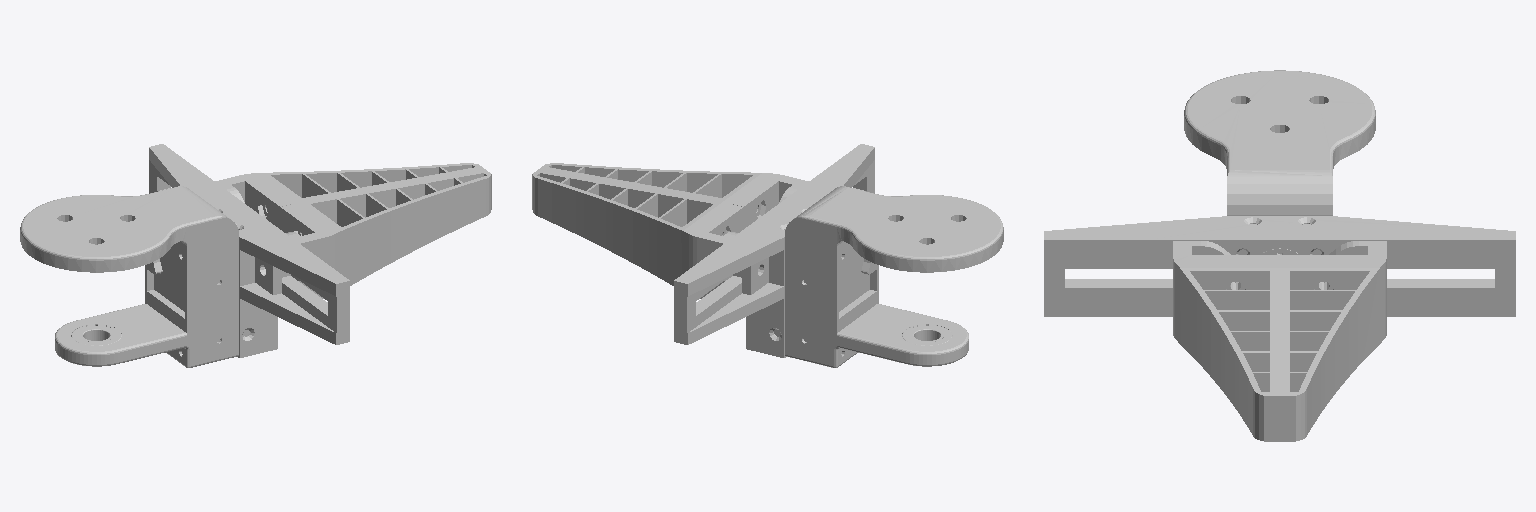
robot.urdf — RobotBimanualV3:
<?xml version="1.0" encoding="utf-8"?>
<!-- This URDF was automatically created by SolidWorks to URDF Exporter! Originally created by [author] ([email redacted]) 
     Commit Version: 1.6.0-4-g7f85cfe  Build Version: 1.6.7995.38578
     For more information, please see http://wiki.ros.org/sw_urdf_exporter -->
<robot
  name="RobotBimanualV3">
  <link
    name="base_link">
    <inertial>
      <origin
        xyz="0.010321 0.00065104 0.5185"
        rpy="0 0 0" />
      <mass
        value="35.545" />
      <inertia
        ixx="1.3259"
        ixy="-1.6443E-06"
        ixz="-0.00012106"
        iyy="1.3119"
        iyz="-1.547E-06"
        izz="0.026428" />
    </inertial>
    <visual>
      <origin
        xyz="0 0 0"
        rpy="0 0 0" />
      <geometry>
        <mesh
          filename="package://RobotBimanualV3/meshes/base_link.obj" />
      </geometry>
      <material
        name="">
        <color
          rgba="0.79216 0.81961 0.93333 1" />
      </material>
    </visual>
    <collision>
      <origin
        xyz="0 0 0"
        rpy="0 0 0" />
      <geometry>
        <mesh
          filename="package://RobotBimanualV3/meshes/base_link_simplified_decomposed.obj" />
      </geometry>
    </collision>
  </link>
  <link
    name="link1">
    <inertial>
      <origin
        xyz="0.00277367 6.161E-05 0.05165334"
        rpy="0 0 0" />
      <mass
        value="0.706" />
      <inertia
        ixx="0.00074611"
        ixy="5.4E-07"
        ixz="5.3E-07"
        iyy="0.00054009"
        iyz="3.26E-06"
        izz="0.00050643" />
    </inertial>
    <visual>
      <origin
        xyz="0 0 0"
        rpy="0 0 0" />
      <geometry>
        <mesh
          filename="package://RobotBimanualV3/meshes/link1.obj" />
      </geometry>
      <material
        name="">
        <color
          rgba="1 1 1 1" />
      </material>
    </visual>
    <collision>
      <origin
        xyz="0 0 0"
        rpy="0 0 0" />
      <geometry>
        <mesh
          filename="package://RobotBimanualV3/meshes/Simplified_link1_decomposed.obj" />
      </geometry>
    </collision>
  </link>
  <joint
    name="joint1"
    type="revolute">
    <origin
      xyz="0.02 0.1037 0.8358"
      rpy="0 0 0" />
    <parent
      link="base_link" />
    <child
      link="link1" />
    <axis
      xyz="0 0 1" />
    <limit
      lower="-1.57079633"
      upper="0.87266463"
      effort="4"
      velocity="2.17" />
  </joint>
  <link
    name="link2">
    <inertial>
      <origin
        xyz="-0.00124394 -5.732E-05 0.0545228"
        rpy="0 0 0" />
      <mass
        value="0.659" />
      <inertia
        ixx="0.00064807"
        ixy="8.3E-07"
        ixz="-4.6E-07"
        iyy="0.00045162"
        iyz="-1.01E-06"
        izz="0.00043422" />
    </inertial>
    <visual>
      <origin
        xyz="0 0 0"
        rpy="0 0 0" />
      <geometry>
        <mesh
          filename="package://RobotBimanualV3/meshes/link2.obj" />
      </geometry>
      <material
        name="">
        <color
          rgba="1 1 1 1" />
      </material>
    </visual>
    <collision>
      <origin
        xyz="0 0 0"
        rpy="0 0 0" />
      <geometry>
        <mesh
          filename="package://RobotBimanualV3/meshes/Simplified_link2_decomposed.obj" />
      </geometry>
    </collision>
  </link>
  <joint
    name="joint2"
    type="revolute">
    <origin
      xyz="-0.020519 0.0080718 0.0528"
      rpy="-1.5708 0 1.5708" />
    <parent
      link="link1" />
    <child
      link="link2" />
    <axis
      xyz="0 0 1" />
    <limit
      lower="-0.87266463"
      upper="0.87266463"
      effort="4"
      velocity="2.17" />
  </joint>
  <link
    name="link3">
    <inertial>
      <origin
        xyz="-0.03505493 -0.006151 0.05438578"
        rpy="0 0 0" />
      <mass
        value="1.095" />
      <inertia
        ixx="0.00161847"
        ixy="0.00042205"
        ixz="-0.00104433"
        iyy="0.0066165"
        iyz="-0.0001917"
        izz="0.00653551" />
    </inertial>
    <visual>
      <origin
        xyz="0 0 0"
        rpy="0 0 0" />
      <geometry>
        <mesh
          filename="package://RobotBimanualV3/meshes/link3.obj" />
      </geometry>
      <material
        name="">
        <color
          rgba="0.79216 0.81961 0.93333 1" />
      </material>
    </visual>
    <collision>
      <origin
        xyz="0 0 0"
        rpy="0 0 0" />
      <geometry>
        <mesh
          filename="package://RobotBimanualV3/meshes/Simplified_link3_decomposed.obj" />
      </geometry>
    </collision>
  </link>
  <joint
    name="joint3"
    type="revolute">
    <origin
      xyz="0.014928 0 0.058031"
      rpy="-1.5708 0 -1.5708" />
    <parent
      link="link2" />
    <child
      link="link3" />
    <axis
      xyz="0 0 1" />
    <limit
      lower="-3.14159265"
      upper="0.87266463"
      effort="4"
      velocity="2.17" />
  </joint>
  <link
    name="link4">
    <inertial>
      <origin
        xyz="-0.00914828 -0.00042727 -7.12E-06"
        rpy="0 0 0" />
      <mass
        value="0.268" />
      <inertia
        ixx="9.136E-05"
        ixy="7E-08"
        ixz="-2E-08"
        iyy="0.00013894"
        iyz="0"
        izz="0.00013031" />
    </inertial>
    <visual>
      <origin
        xyz="0 0 0"
        rpy="0 0 0" />
      <geometry>
        <mesh
          filename="package://RobotBimanualV3/meshes/link4.obj" />
      </geometry>
      <material
        name="">
        <color
          rgba="0.79216 0.81961 0.93333 1" />
      </material>
    </visual>
    <collision>
      <origin
        xyz="0 0 0"
        rpy="0 0 0" />
      <geometry>
        <mesh
          filename="package://RobotBimanualV3/meshes/Simplified_link4_decomposed.obj" />
      </geometry>
    </collision>
  </link>
  <joint
    name="joint4"
    type="revolute">
    <origin
      xyz="-0.25 0 0.08318"
      rpy="0 0 1.5708" />
    <parent
      link="link3" />
    <child
      link="link4" />
    <axis
      xyz="0 0 1" />
    <limit
      lower="-0.78539816"
      upper="1.30899694"
      effort="4"
      velocity="2.17" />
  </joint>
  <link
    name="link5">
    <inertial>
      <origin
        xyz="-0.00143459 -5.019E-05 0.22261684"
        rpy="0 0 0" />
      <mass
        value="0.285" />
      <inertia
        ixx="0.00170458"
        ixy="1.5E-07"
        ixz="-2.111E-05"
        iyy="0.00168732"
        iyz="-5.6E-07"
        izz="7.029E-05" />
    </inertial>
    <visual>
      <origin
        xyz="0 0 0"
        rpy="0 0 0" />
      <geometry>
        <mesh
          filename="package://RobotBimanualV3/meshes/link5.obj" scale="0.9 0.9 1" />
      </geometry>
      <material
        name="">
        <color
          rgba="0.79216 0.81961 0.93333 1" />
      </material>
    </visual>
    <collision>
      <origin
        xyz="0 0 0"
        rpy="0 0 0" />
      <geometry>
        <mesh
          filename="package://RobotBimanualV3/meshes/Simplified_link5_decomposed.obj" scale="0.9 0.9 1"  />
      </geometry>
    </collision>
  </link>
  <joint
    name="joint5"
    type="revolute">
    <origin
      xyz="0.014 0 0"
      rpy="-1.5708 0 -1.5708" />
    <parent
      link="link4" />
    <child
      link="link5" />
    <axis
      xyz="0 0 1" />
    <limit
      lower="-3.66519143"
      upper="3.66519143"
      effort="1"
      velocity="2.17" />
  </joint>
  <link
    name="link6">
    <inertial>
      <origin
        xyz="0 0.05222536 -0.0188198"
        rpy="0 0 0" />
      <mass
        value="0.201" />
      <inertia
        ixx="0.00024939"
        ixy="0"
        ixz="0"
        iyy="0.0002157"
        iyz="-6.26E-06"
        izz="0.00036328" />
    </inertial>
    <visual>
      <origin
        xyz="0 0 0"
        rpy="0 0 0" />
      <geometry>
        <mesh
          filename="package://RobotBimanualV3/meshes/gripped_state_gripper.obj" />
      </geometry>
      <material
        name="">
        <color
          rgba="0.82353 0.82353 0.82353 1" />
      </material>
    </visual>
    <collision>
      <origin
        xyz="0 0 0"
        rpy="0 0 0" />
      <geometry>
        <mesh
          filename="package://RobotBimanualV3/meshes/Simplified_link6_gripped_state_decomposed.obj" />
      </geometry>
    </collision>
  </link>
  <joint
    name="joint6"
    type="revolute">
    <origin
      xyz="0.01415 0 0.2633"
      rpy="1.5708 0 1.5708" />
    <parent
      link="link5" />
    <child
      link="link6" />
    <axis
      xyz="0 0 1" />
    <limit
      lower="-2.0944"
      upper="2.0944"
      effort="1"
      velocity="2.17" />
  </joint>
  <link name="tool1">
    <inertial>
      <origin
        xyz="0 0 0"
        rpy="0 0 0" />
      <mass
        value="0" />
      <inertia
        ixx="0"
        ixy="0"
        ixz="0"
        iyy="0"
        iyz="0"
        izz="0" />
    </inertial>
  </link>
  <joint name="tool1_frame" type="fixed">
    <origin xyz="0.0 0.15764 -0.01415" rpy="0 0 0" />
    <parent link="link6" />
    <child link="tool1" />
  </joint>
</robot>

--- What the picture shows (computed from the rendered views, not written in the file) ---
The picture shows the robot from 3 angles, left to right: view 1: azimuth 30°, elevation 25°; view 2: azimuth 150°, elevation 25°; view 3: azimuth 270°, elevation 25°; orthographic projection.
Model RobotBimanualV3 with 8 links and 7 joints (6 revolute, 1 fixed), rooted at base_link, posed all joints at 0.
Links seen in each view (by area): view 1: link6; view 2: link6; view 3: link6.
Boxes of the visible links, bbox=[...] form: link6: bbox=[20, 144, 491, 367]; link6: bbox=[532, 144, 1003, 367]; link6: bbox=[1044, 70, 1515, 441].
Size in the robot's own frame: 0.1961 by 0.14 by 0.0604 metres.
Meshes: 7 distinct files referenced, 1 mesh visuals loaded (1 OBJ); not drawn: 6 (reference not matched to a file when rendering).